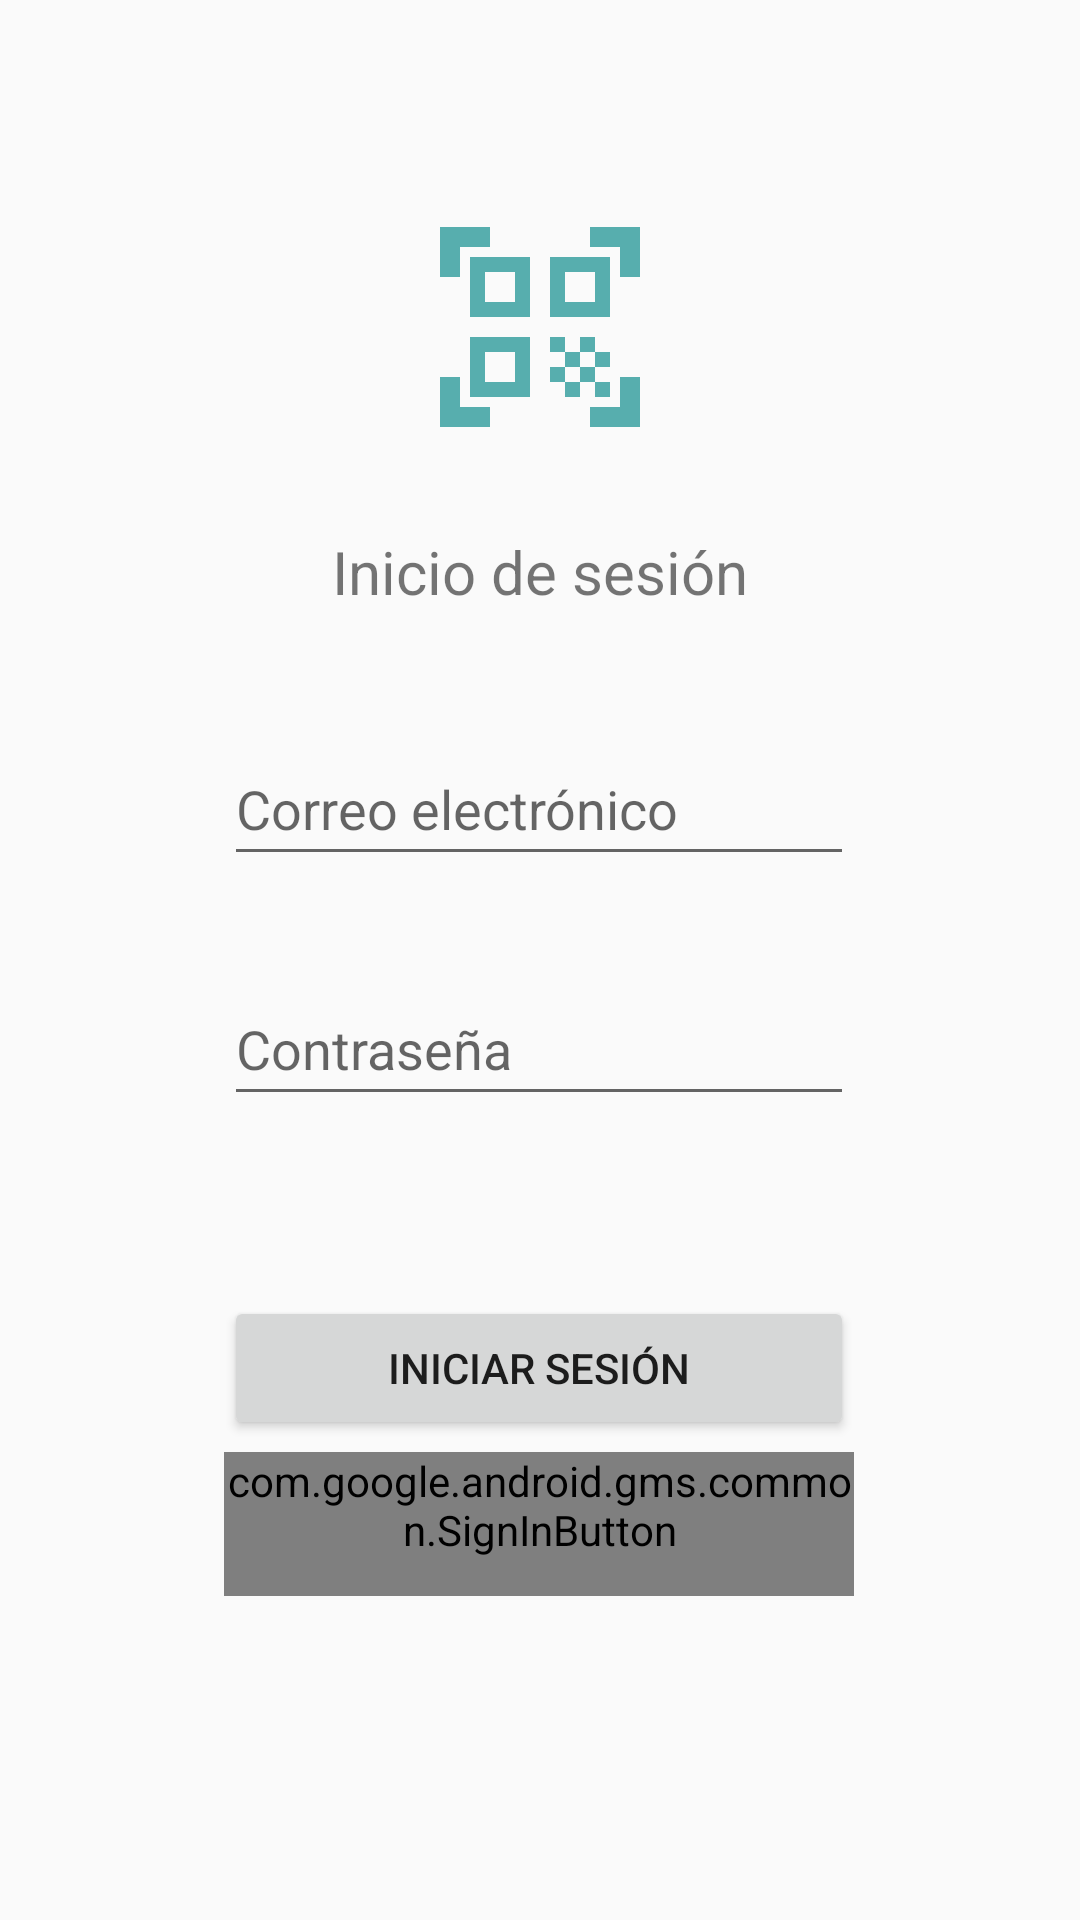

Locate icon controls on the screen. Image size 1080w x 1920h, boxes as (x1, y1, x2, y2).
inicio de sesion scanner: (440, 227, 640, 427)
